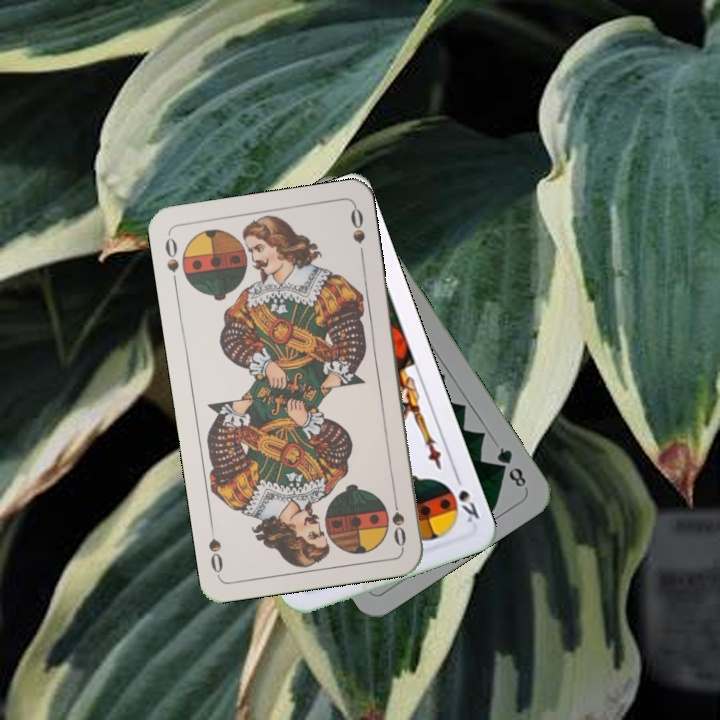G8: (492, 443, 529, 492)
SK: (450, 469, 482, 526)
SO: (388, 491, 409, 550), (161, 234, 182, 290)
